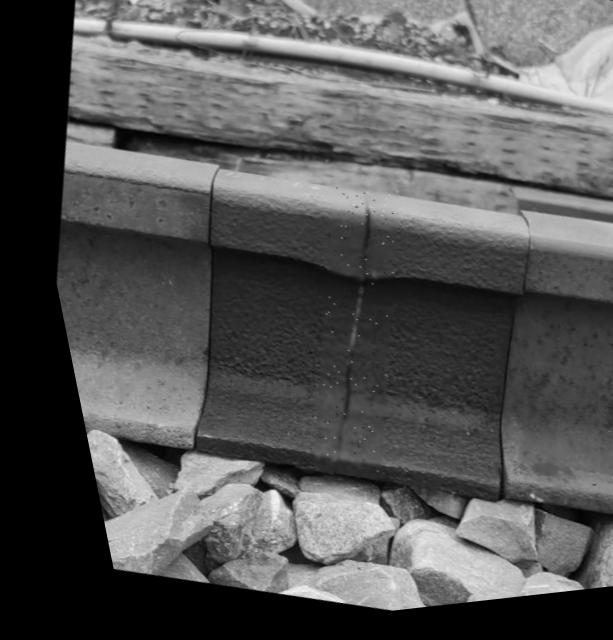person: (24, 121, 398, 508), (296, 168, 613, 566)
